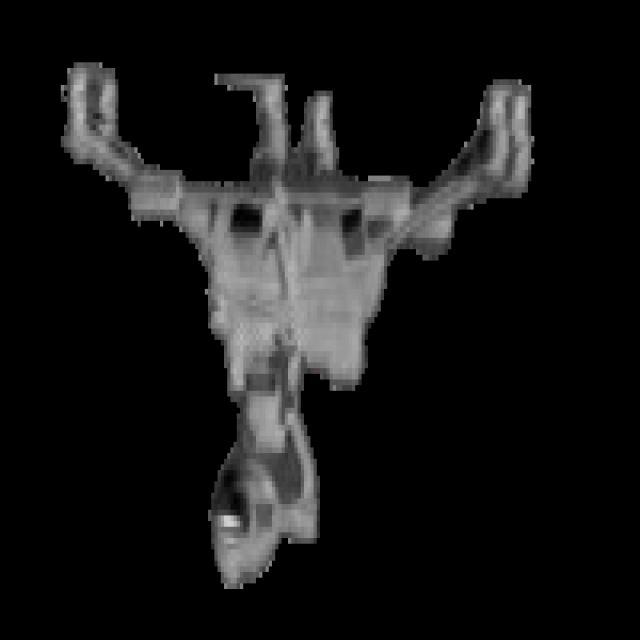drone: (38, 22, 556, 604)
